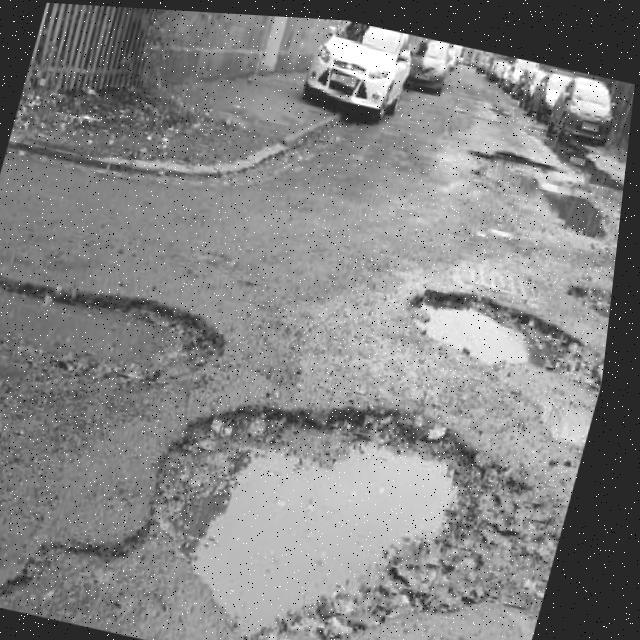pothole: (125, 349, 594, 640), (0, 257, 245, 407), (401, 268, 618, 384), (455, 127, 631, 234), (564, 262, 620, 320)
